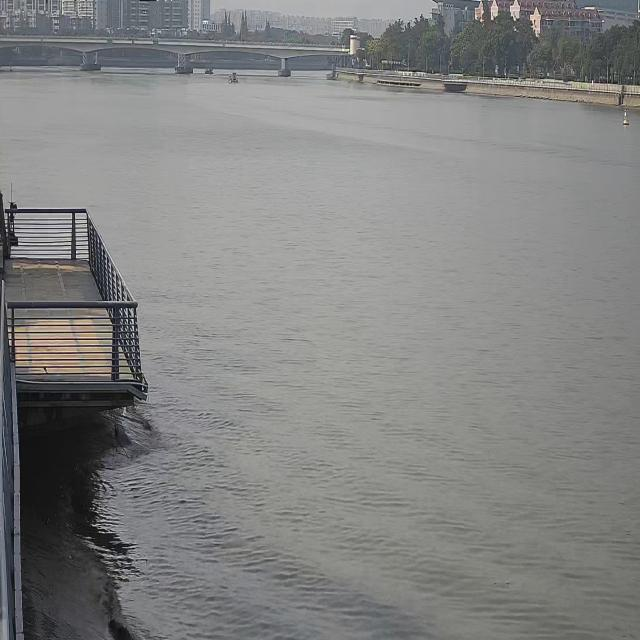ship: (228, 71, 238, 83), (204, 65, 213, 73)
